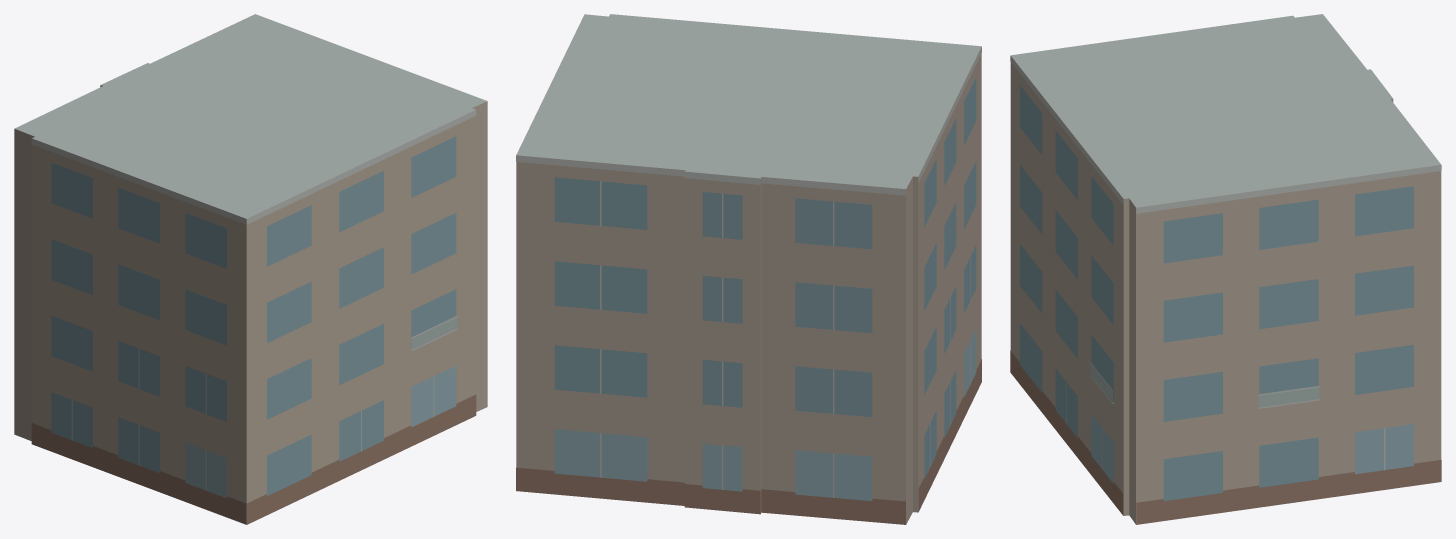
File: survey-upis-32723410.glb
3 renders of one model, left to right at view 1: azimuth 30°, elevation 25°; view 2: azimuth 150°, elevation 25°; view 3: azimuth 270°, elevation 25°, orthographic. The views are drawn at different scales.
Parts seen in each view (by area): view 1: survey-upis-32723410.tmp; view 2: survey-upis-32723410.tmp; view 3: survey-upis-32723410.tmp.
Boxes of the visible parts, <box> form: survey-upis-32723410.tmp: <box>14,14,487,524</box>; survey-upis-32723410.tmp: <box>516,14,981,524</box>; survey-upis-32723410.tmp: <box>1010,14,1441,524</box>.
Size of the model in its own units: 16.52 by 12.6 by 15.53.
